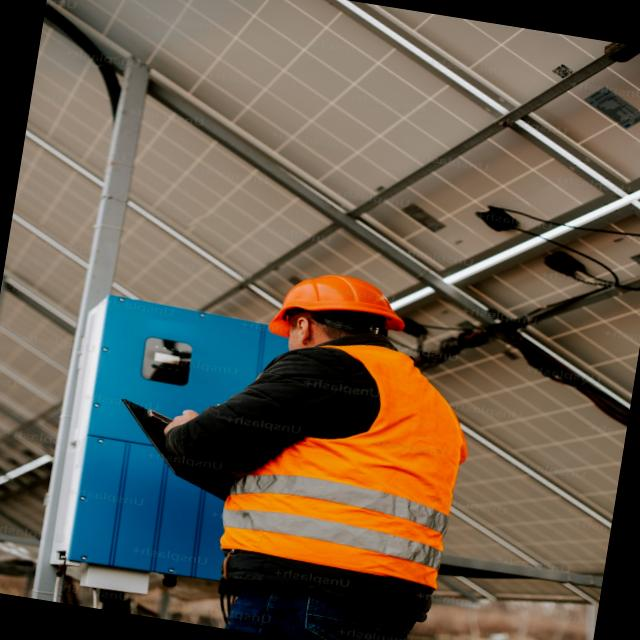helmet: (258, 253, 411, 352)
vest: (200, 327, 482, 590)
